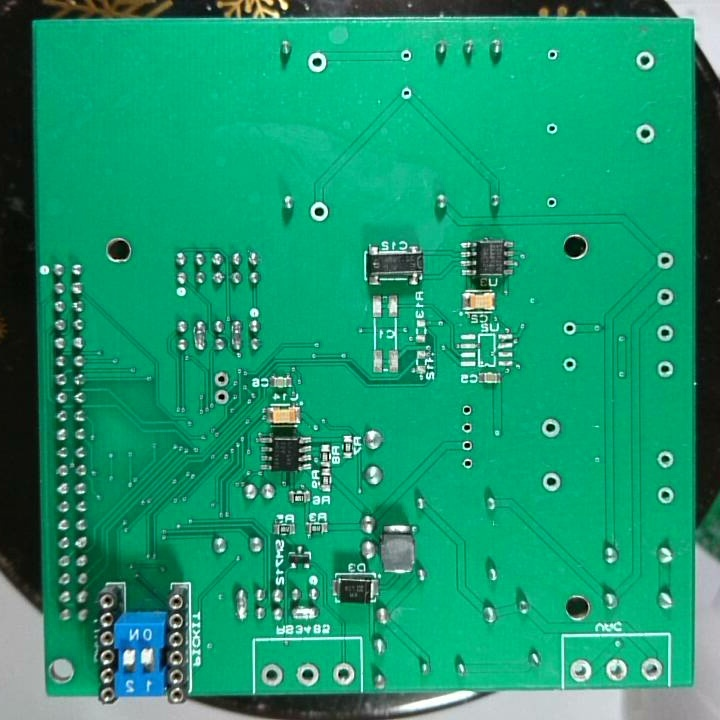F: (602, 655, 631, 683), (294, 660, 322, 689), (568, 657, 594, 686), (259, 660, 285, 689), (539, 469, 564, 495), (638, 654, 662, 681), (331, 660, 355, 687), (308, 198, 331, 225), (305, 51, 330, 75), (634, 120, 657, 146), (634, 48, 657, 73), (653, 357, 678, 380), (540, 415, 562, 440), (656, 446, 677, 472), (654, 249, 677, 272), (654, 322, 677, 345), (655, 287, 677, 309), (656, 483, 676, 506), (559, 318, 579, 338), (542, 120, 562, 140), (543, 46, 564, 65), (542, 192, 561, 212), (211, 387, 231, 406), (397, 82, 415, 103), (397, 46, 416, 65), (212, 369, 231, 388), (560, 355, 578, 374), (459, 437, 476, 454), (459, 419, 475, 437), (459, 402, 476, 418), (459, 454, 475, 470)
P: (226, 318, 246, 355), (233, 584, 250, 624), (288, 604, 320, 623), (191, 318, 208, 350)
